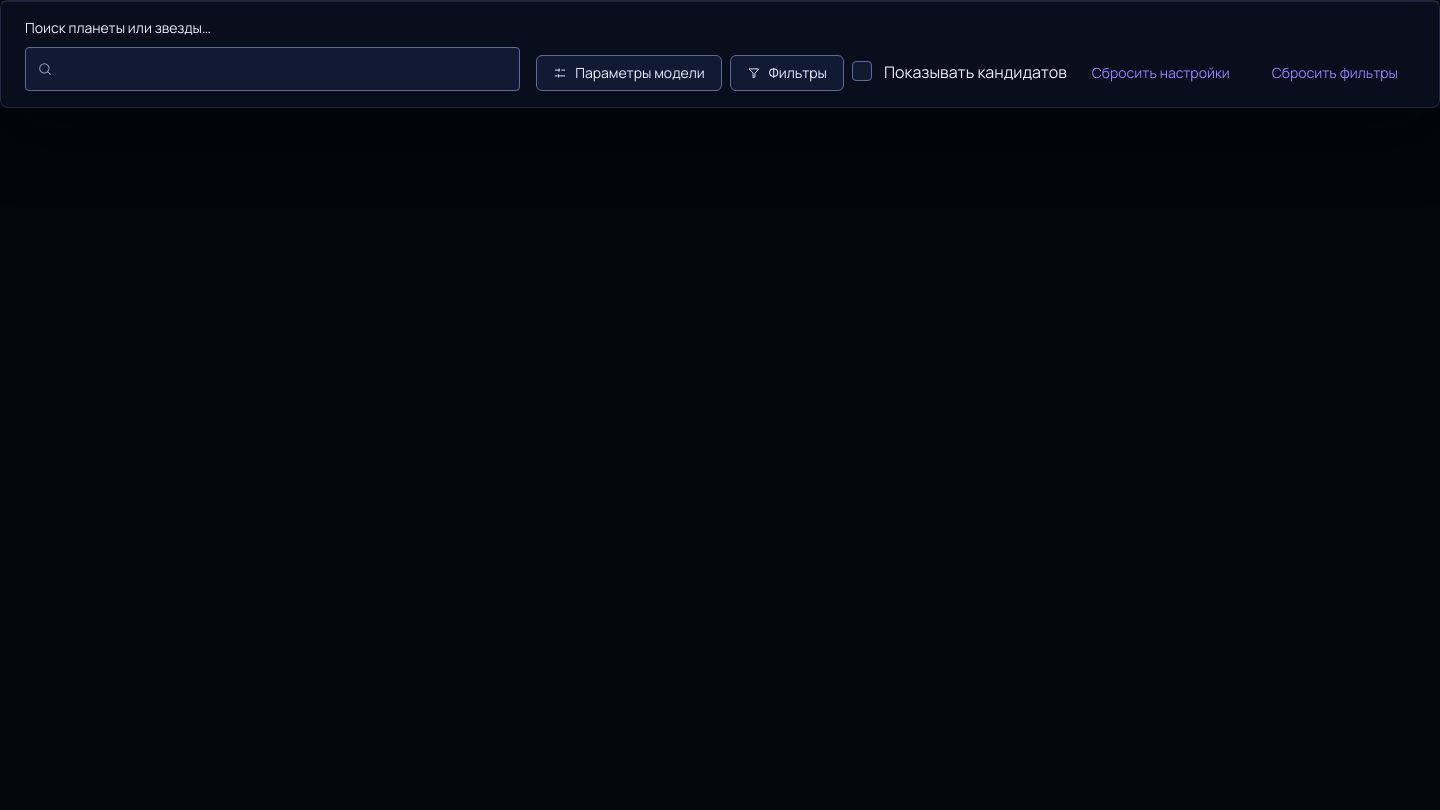
Test: панель «Параметры модели» › в strict штрафы отключены, границы HZ доступны
This screenshot has width=1440, height=810.
Click the button "Параметры модели": (629, 73) [536,55,722,91]
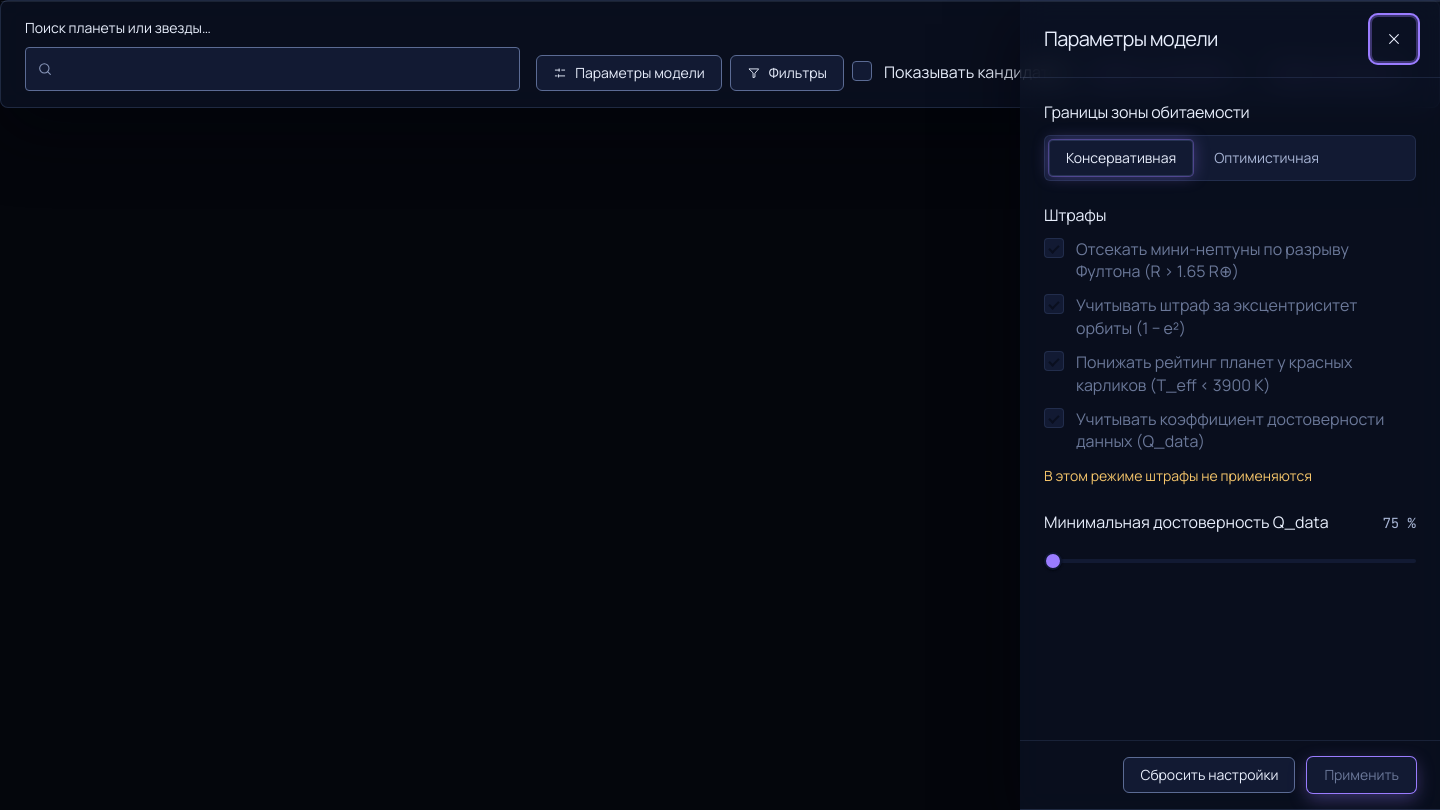
Expected: the text "В этом режиме штрафы не применяются" is shown, [1044,466,1312,485]
